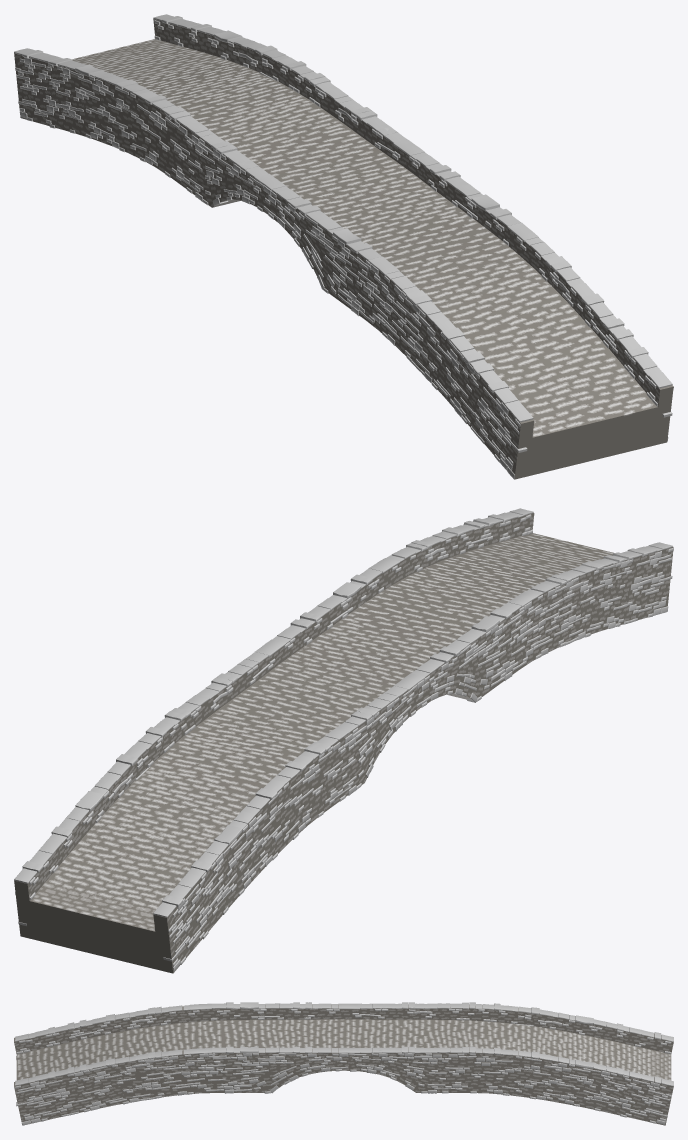
File: StoneBride.fbx
3 views of the same model, one above another, from view 1: azimuth 30°, elevation 25°; view 2: azimuth 150°, elevation 25°; view 3: azimuth 270°, elevation 25° (orthographic). The views are drawn at different scales.
Parts seen in each view (by area): view 1: Bridge, BridgeDetails; view 2: Bridge, BridgeDetails; view 3: Bridge, BridgeDetails.
Boxes of the visible parts, bbox=[...] form: Bridge: bbox=[14, 19, 673, 479]; BridgeDetails: bbox=[14, 14, 673, 478]; Bridge: bbox=[14, 513, 673, 973]; BridgeDetails: bbox=[14, 508, 673, 971]; Bridge: bbox=[14, 1004, 673, 1125]; BridgeDetails: bbox=[14, 1002, 673, 1125].
Size of the model in its own units: 808 by 569 by 4535.
